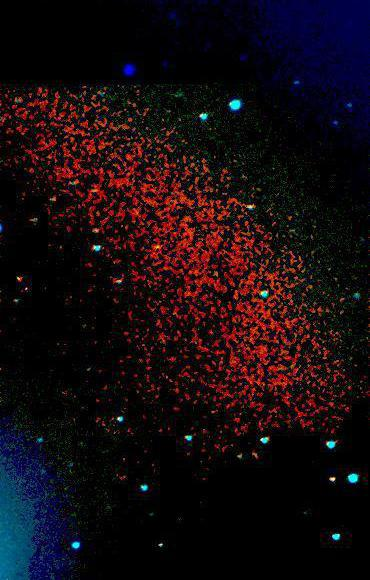star: (5, 265, 35, 295)
